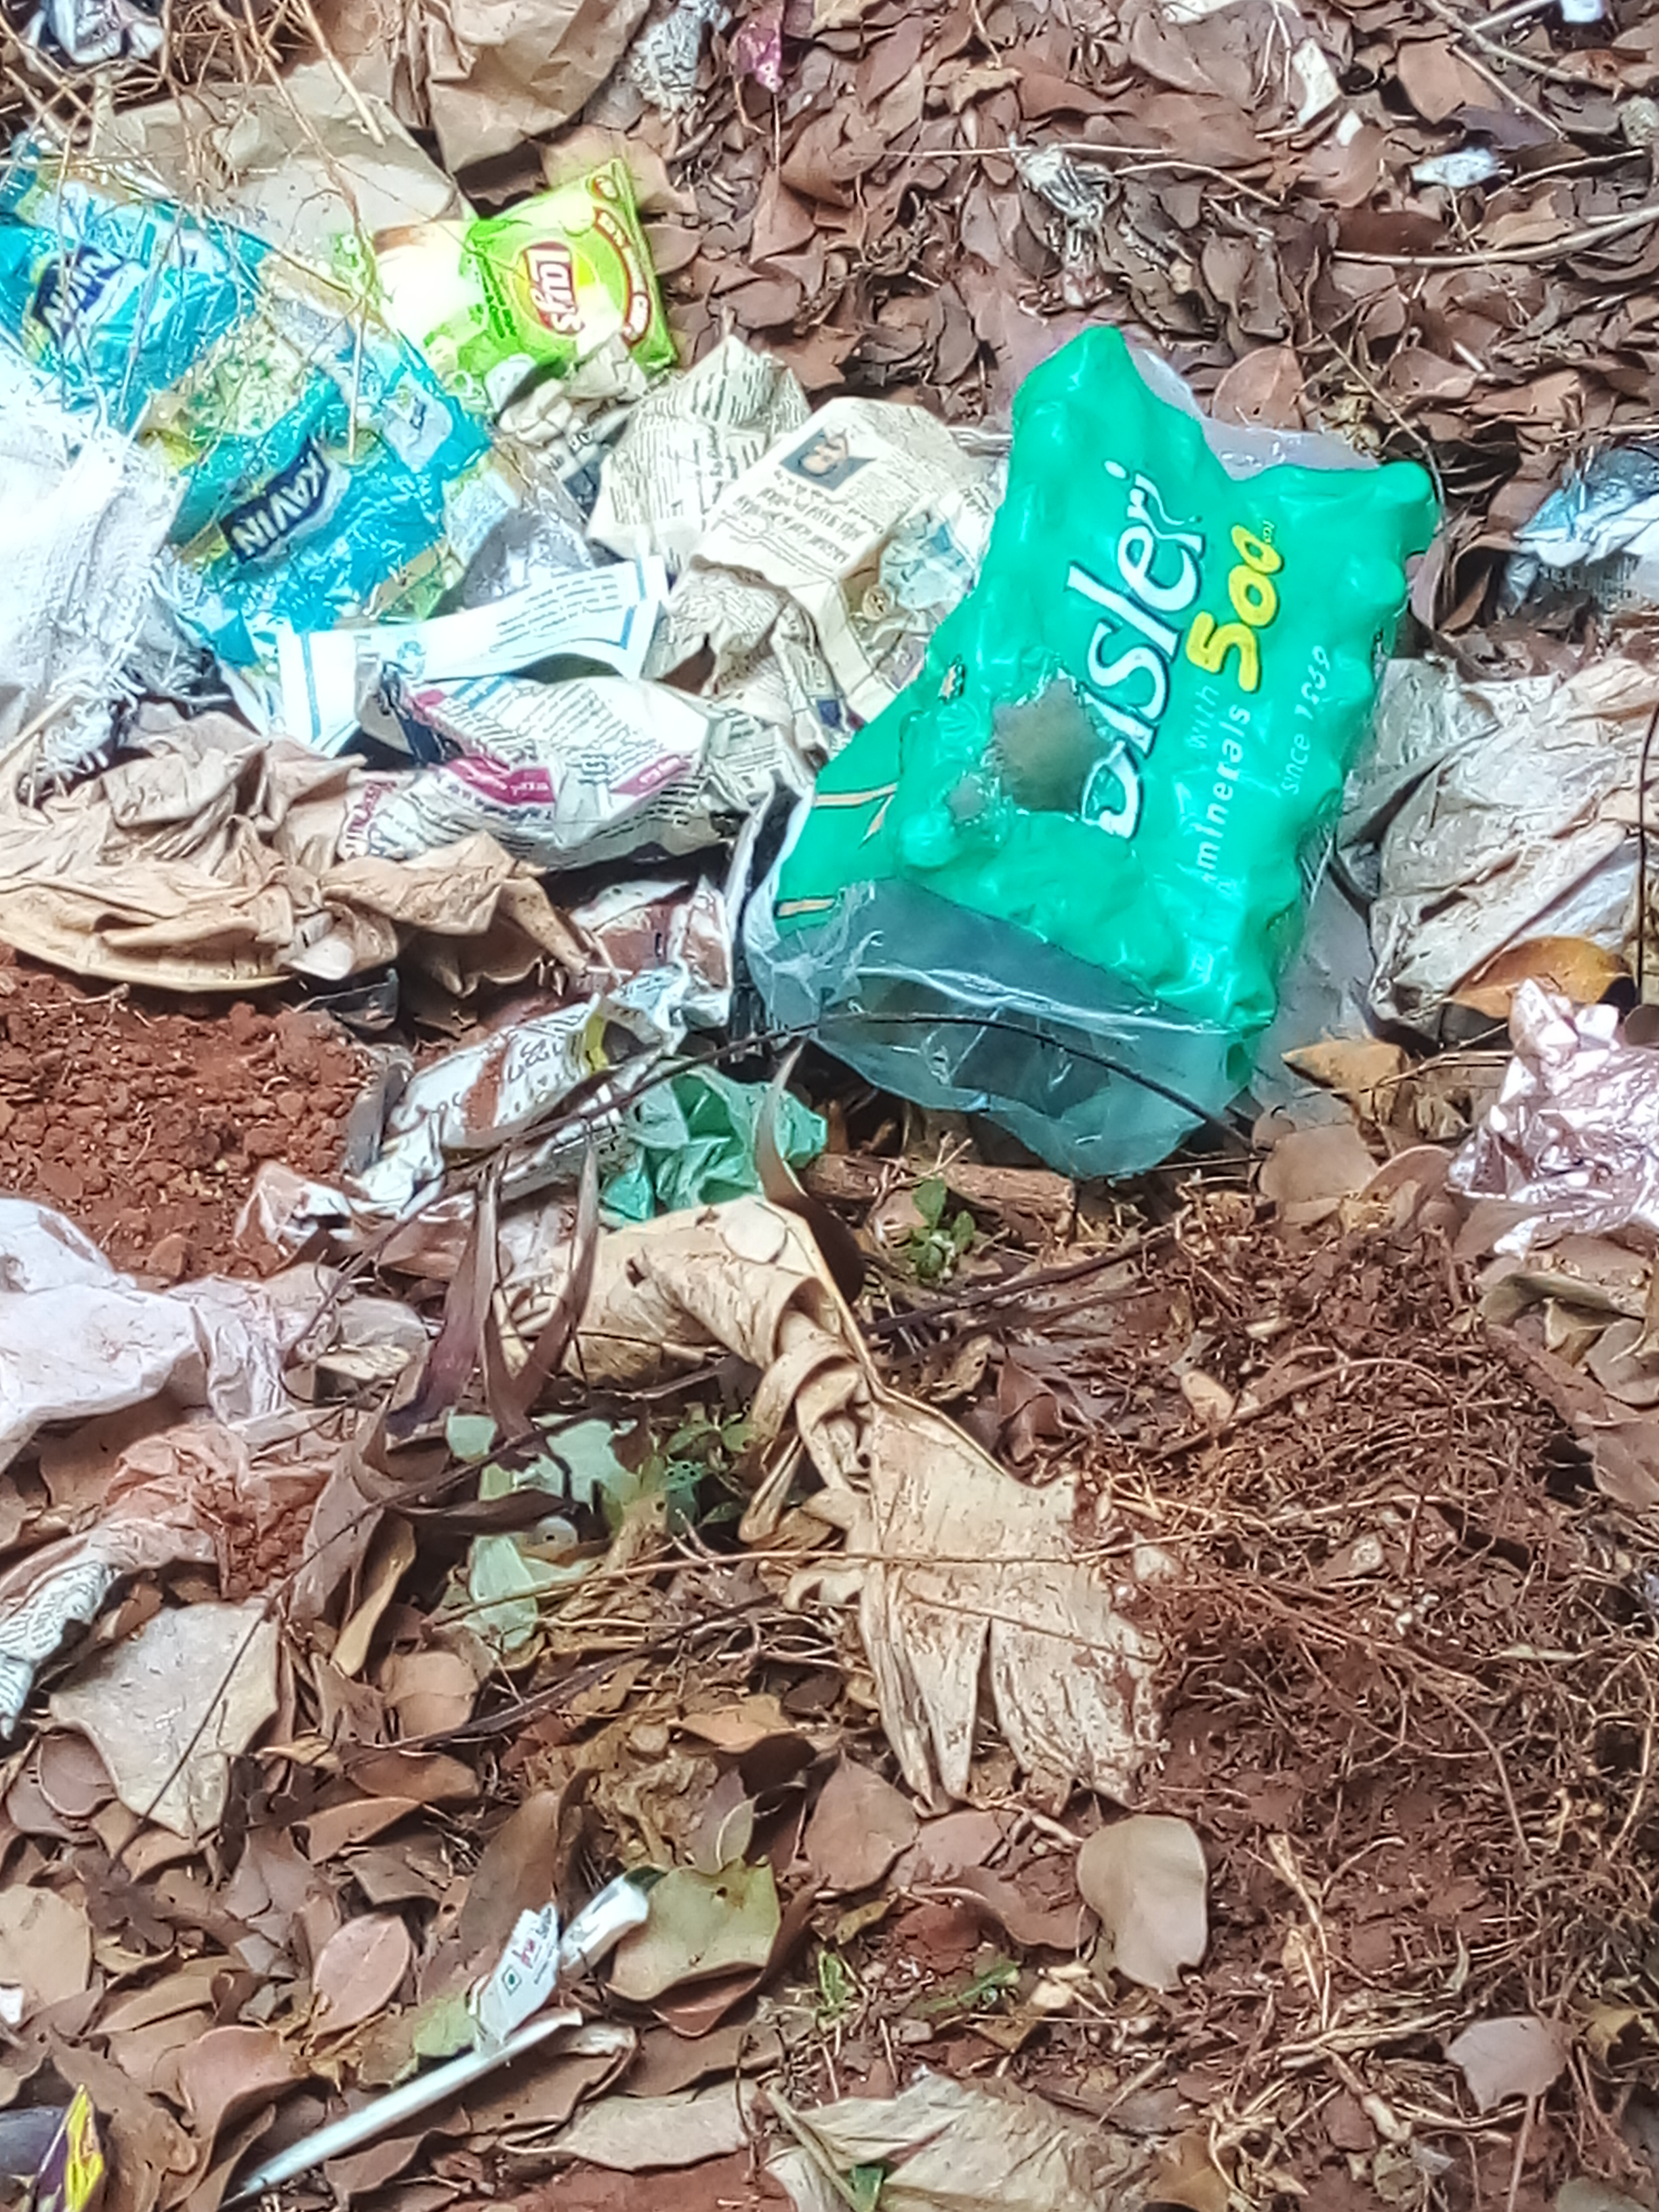pbag: (732, 394, 1459, 996), (0, 192, 505, 655)
